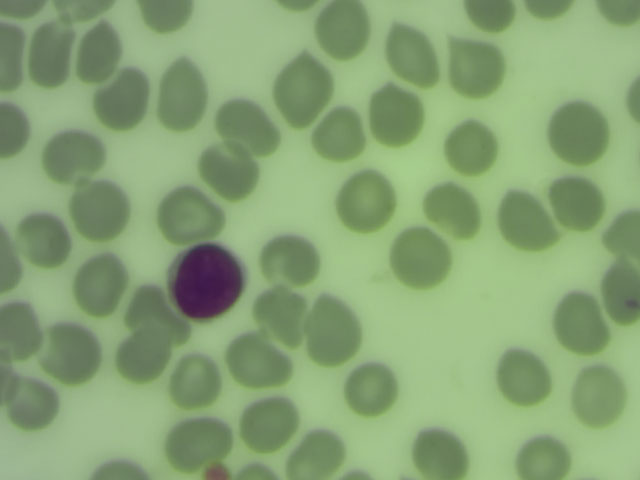Platelets: (200, 461, 234, 480)
RBC: (273, 57, 335, 124), (305, 299, 362, 361), (551, 103, 608, 162), (72, 16, 123, 81), (16, 211, 72, 270), (411, 426, 472, 480), (227, 340, 292, 390), (25, 20, 73, 87), (597, 255, 640, 329), (310, 106, 365, 163), (213, 99, 280, 145), (124, 280, 179, 332), (166, 421, 230, 465), (346, 361, 397, 416), (251, 284, 302, 339), (263, 231, 314, 286), (498, 350, 549, 405), (571, 368, 622, 423), (555, 294, 606, 349), (550, 174, 601, 229), (498, 193, 549, 248), (429, 181, 480, 236), (394, 230, 445, 285), (340, 175, 391, 230), (448, 121, 499, 176), (367, 91, 418, 146), (451, 40, 502, 95), (385, 22, 436, 77), (293, 425, 344, 480), (244, 393, 295, 448), (170, 352, 221, 407), (203, 143, 254, 198), (155, 64, 206, 119), (162, 188, 213, 243), (120, 331, 171, 386), (77, 254, 128, 309), (4, 375, 55, 430), (47, 326, 98, 381), (74, 184, 125, 239), (47, 129, 98, 184), (96, 71, 147, 126), (518, 429, 571, 480), (317, 1, 368, 54), (134, 1, 200, 40), (600, 209, 640, 267), (1, 303, 42, 359), (1, 96, 32, 164), (458, 1, 516, 36), (90, 450, 152, 480), (1, 20, 26, 92), (522, 1, 583, 26), (597, 1, 640, 29), (58, 1, 121, 16)
WBC: (162, 241, 249, 324)
